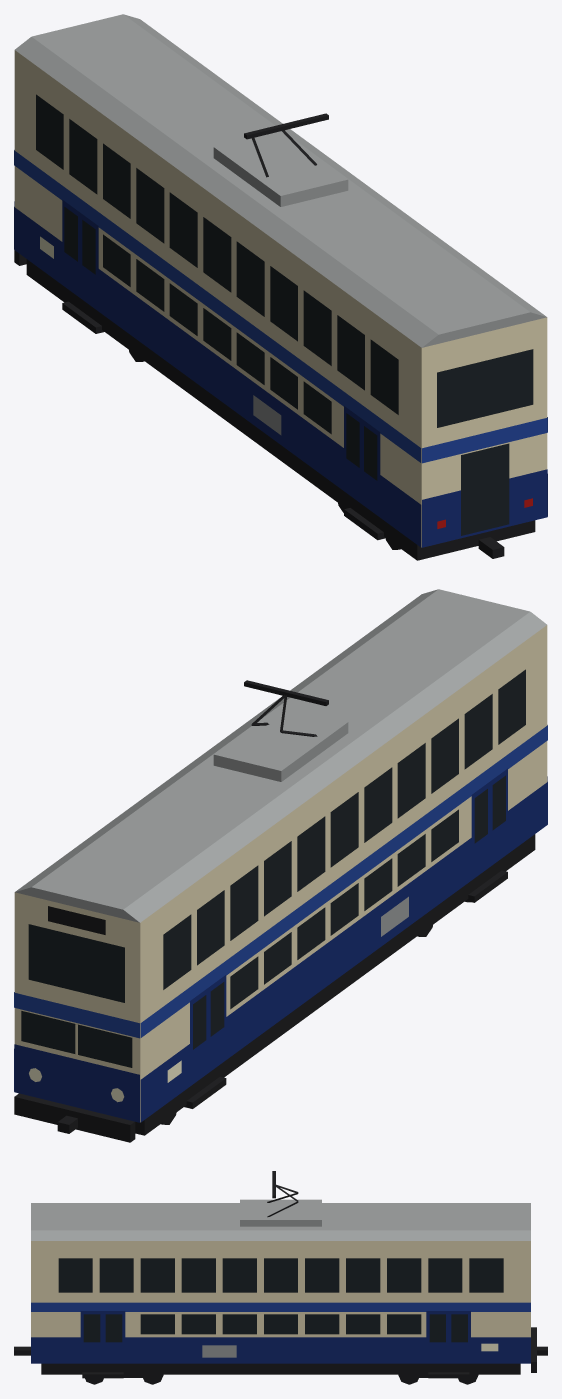
File: tram-blue.glb
3 views of the same model, one above another, from view 1: azimuth 30°, elevation 25°; view 2: azimuth 150°, elevation 25°; view 3: azimuth 270°, elevation 25° (orthographic). The views are drawn at different scales.
Visible parts, largest first — view 1: RamlTramBlue; view 2: RamlTramBlue; view 3: RamlTramBlue.
Part boxes in pixels (x1,y1,x2,y2): RamlTramBlue: (14,14,547,560); RamlTramBlue: (14,589,547,1142); RamlTramBlue: (14,1171,547,1384).
Bounding box in the file's own units: 2.7 × 6.1 × 15.6.
Materials: 1 (1 with a texture image).
